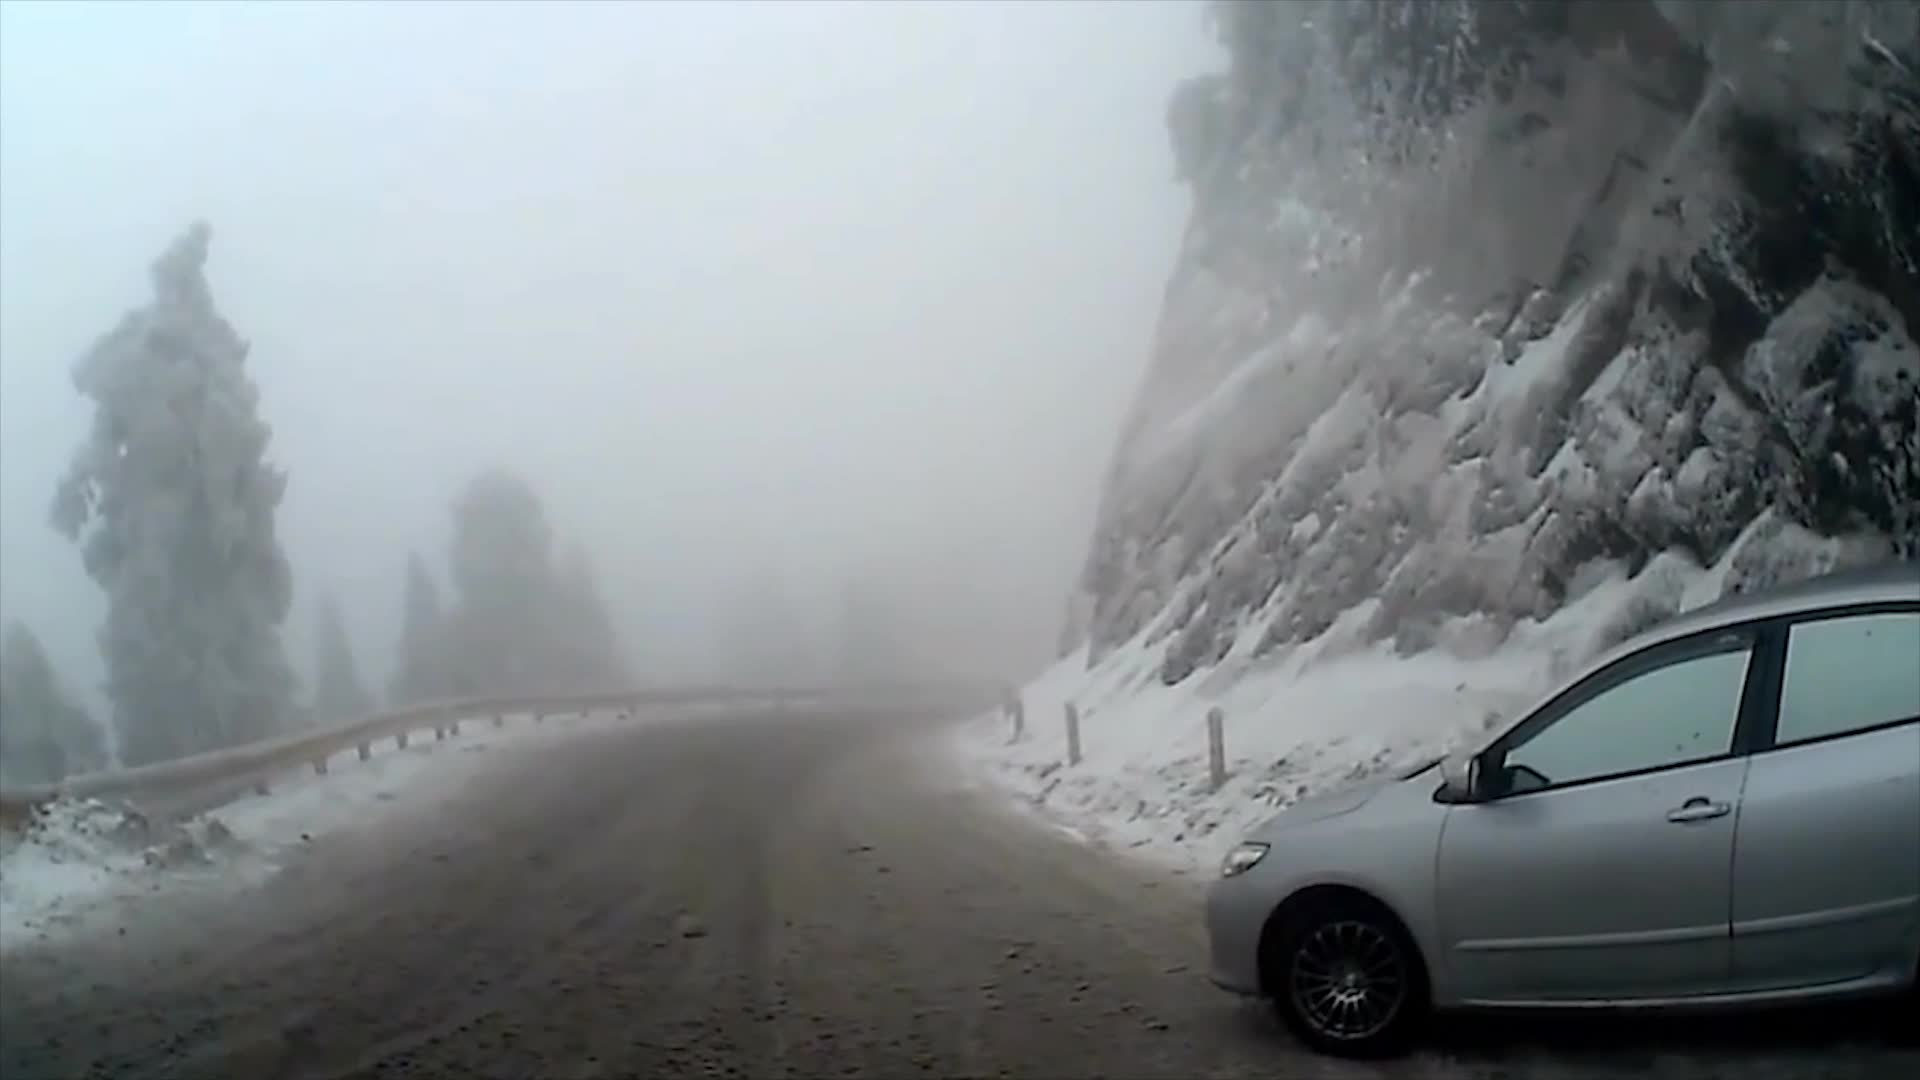vehicle: (1203, 562, 1920, 1072)
